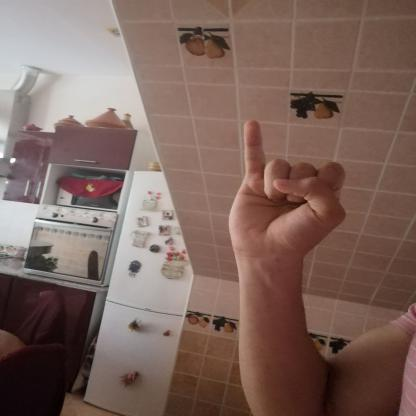MEEM: (215, 107, 363, 269)
